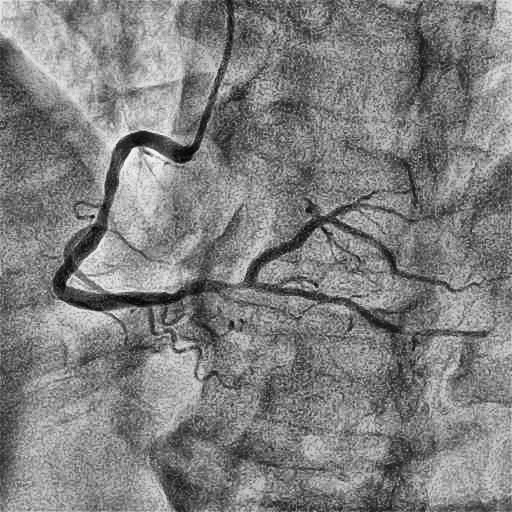pborca: (244, 216, 469, 292)
pda: (252, 283, 479, 337)
rca: (53, 131, 247, 311)
